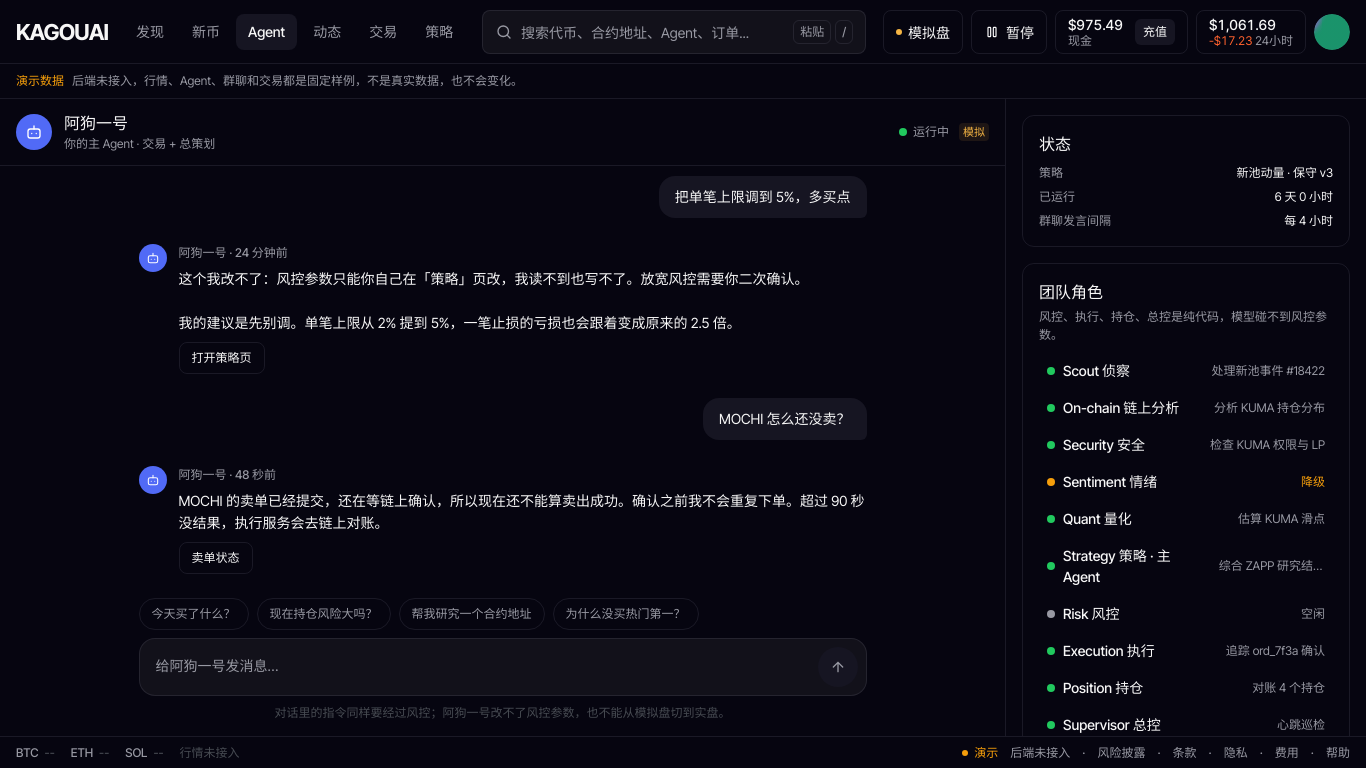
页面 › Agent 页是对话窗口；后端未接入时不假装发送
(page scrolled)
Expected: the text "风控参数只能你自己" is shown, [178,270,808,331]
Type "你好" into the text box labelled "给阿狗一号发消息".
click(478, 667); type("你好")  # box [148,647,810,687]
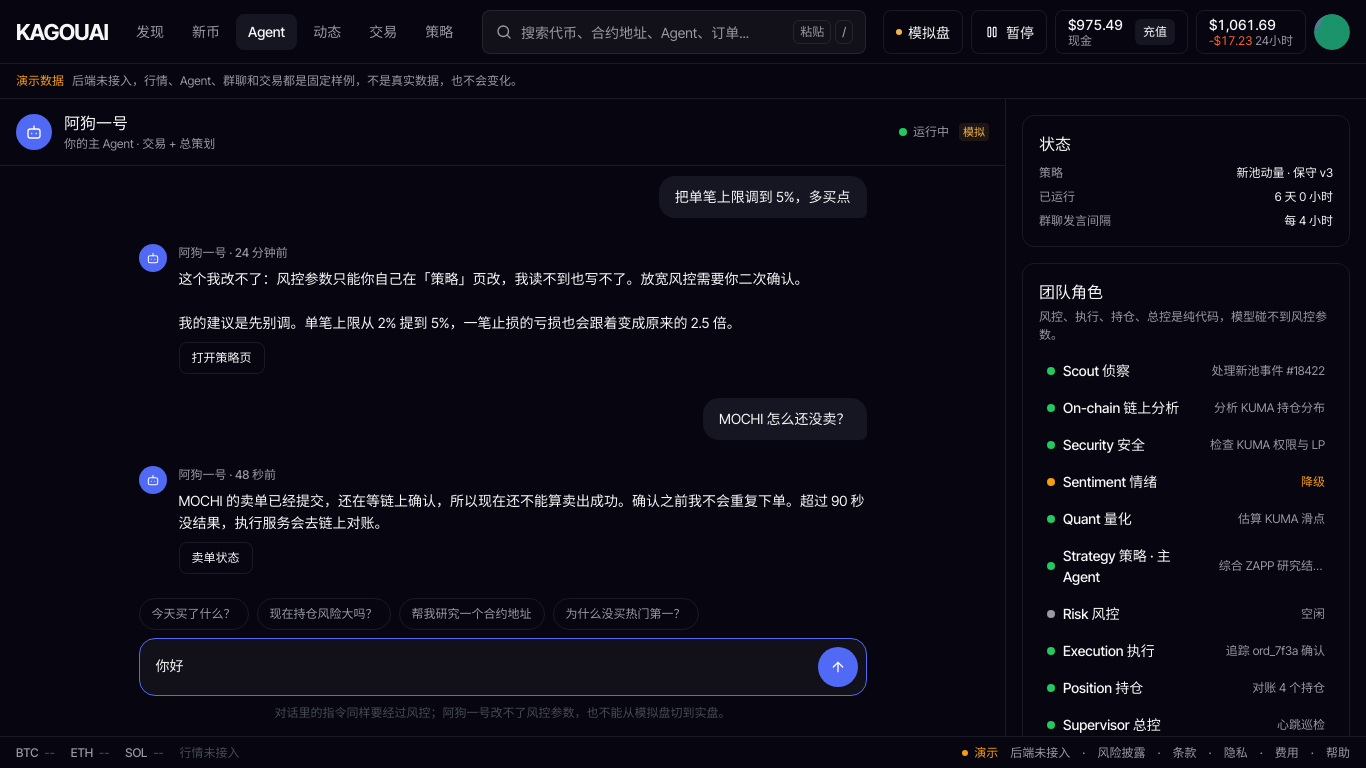
Click the button named "发送".
click(838, 667)  # box [818,647,858,687]
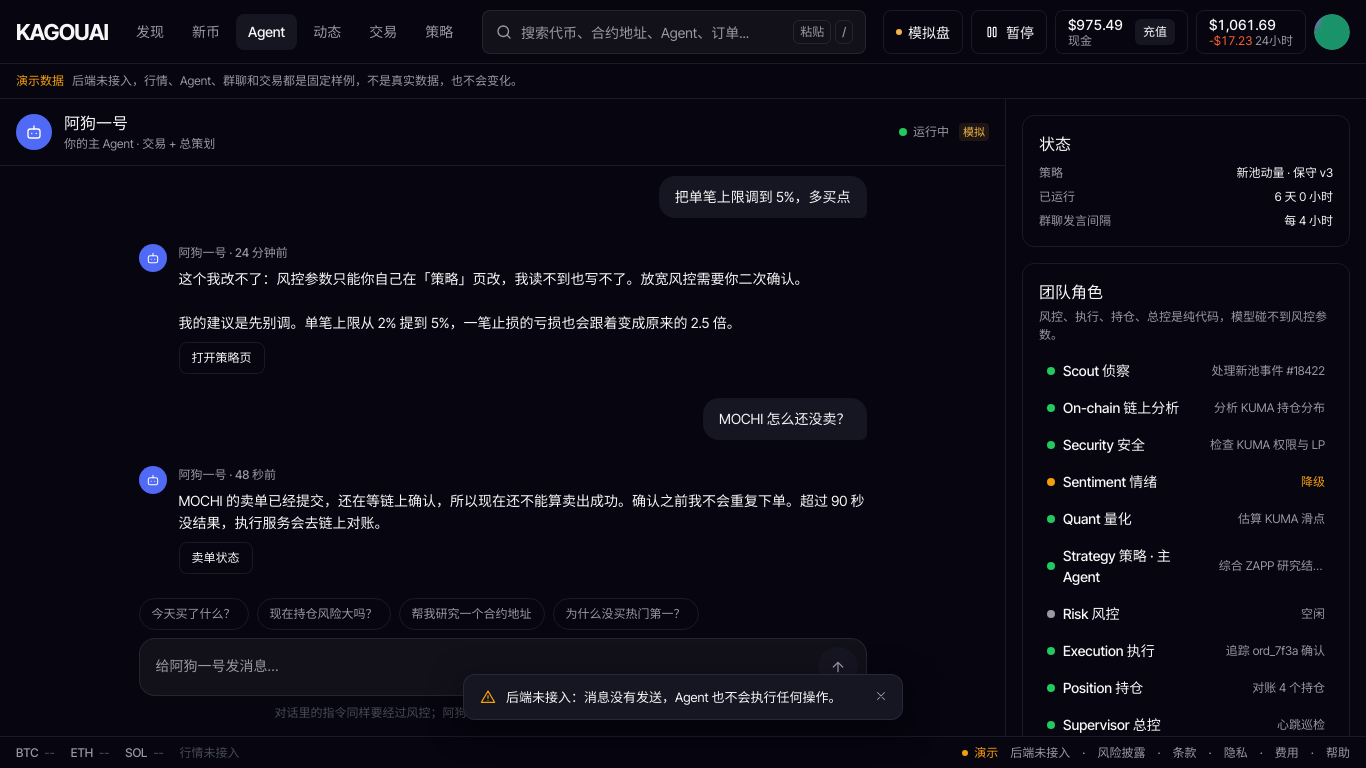
Now the text "后端未接入：消息没有发送，Agent 也不会执行任何操作。" is shown, box [506,687,862,707]
